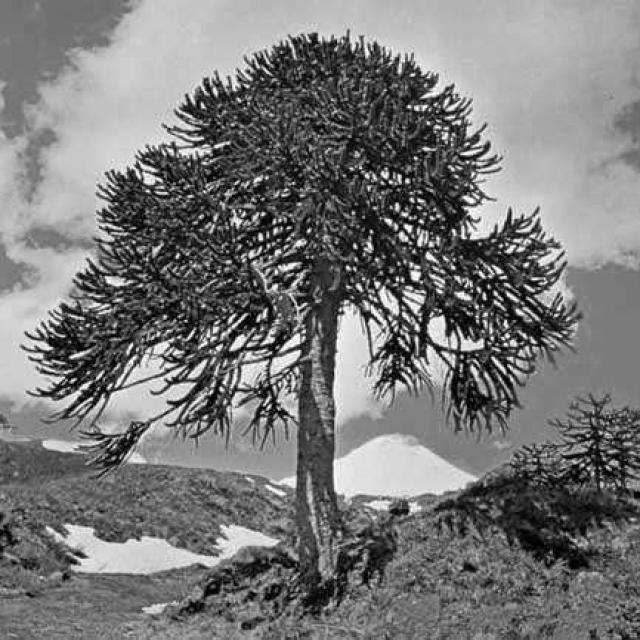Tree: (24, 34, 576, 579)
